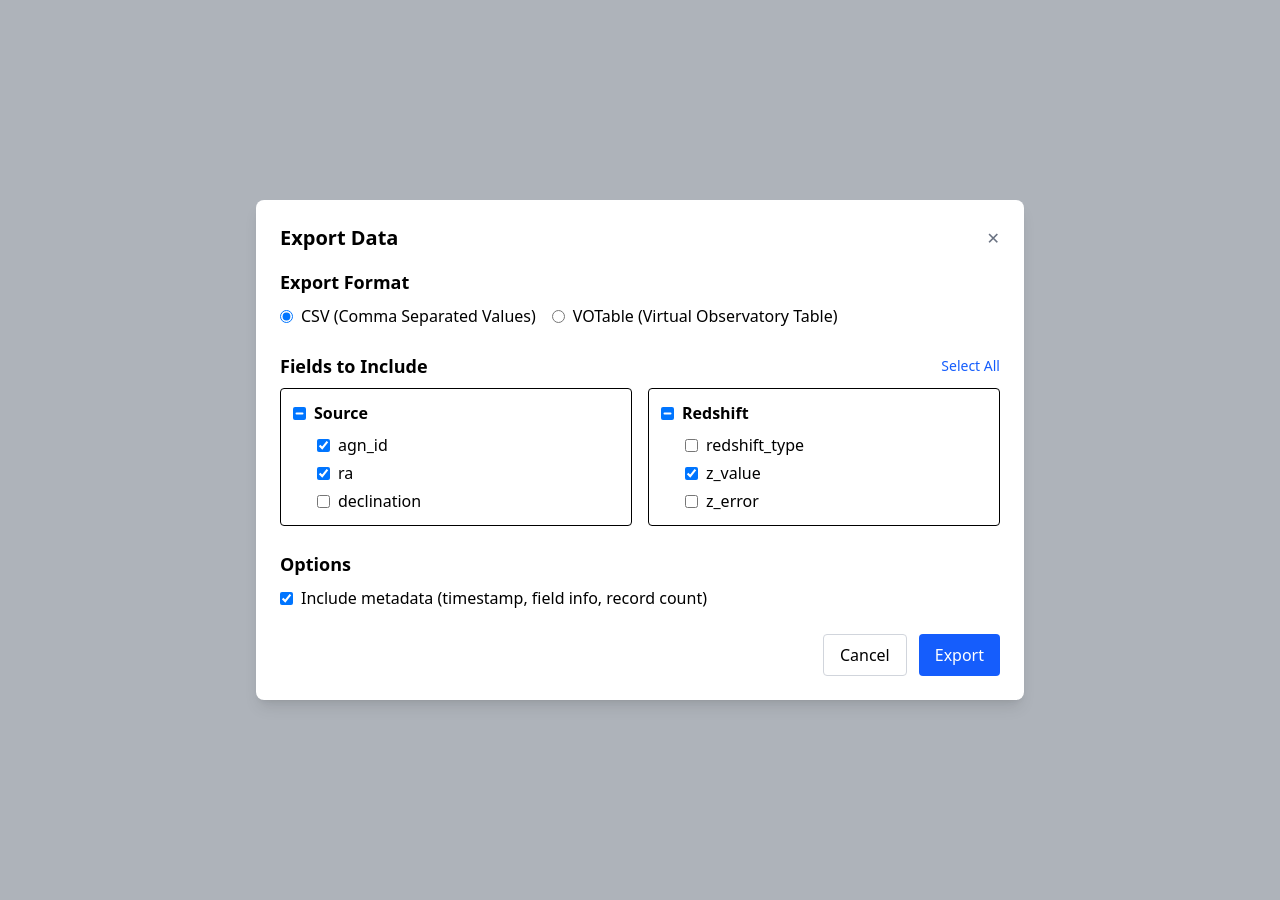
Test: ExportDialog Component › disable export button when no fields selected
// Deselect all fields
What coordinates should you click on to do the following:
click the button "Select All"
I would click on:
 (971, 366)
Its box is [941, 356, 1000, 376].
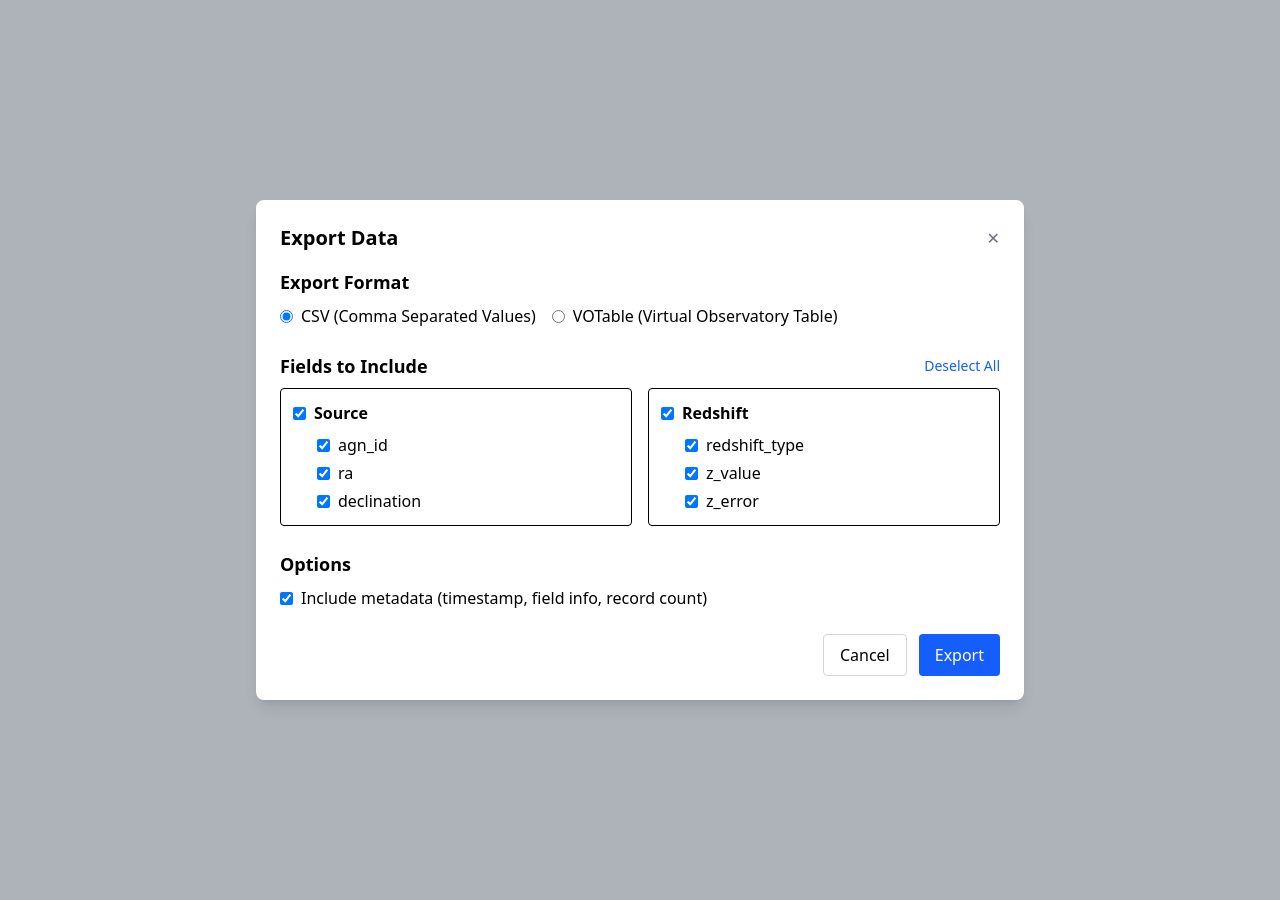
What coordinates should you click on to do the following:
click the button "Deselect All"
I would click on:
 (962, 366)
Its box is [924, 356, 1000, 376].
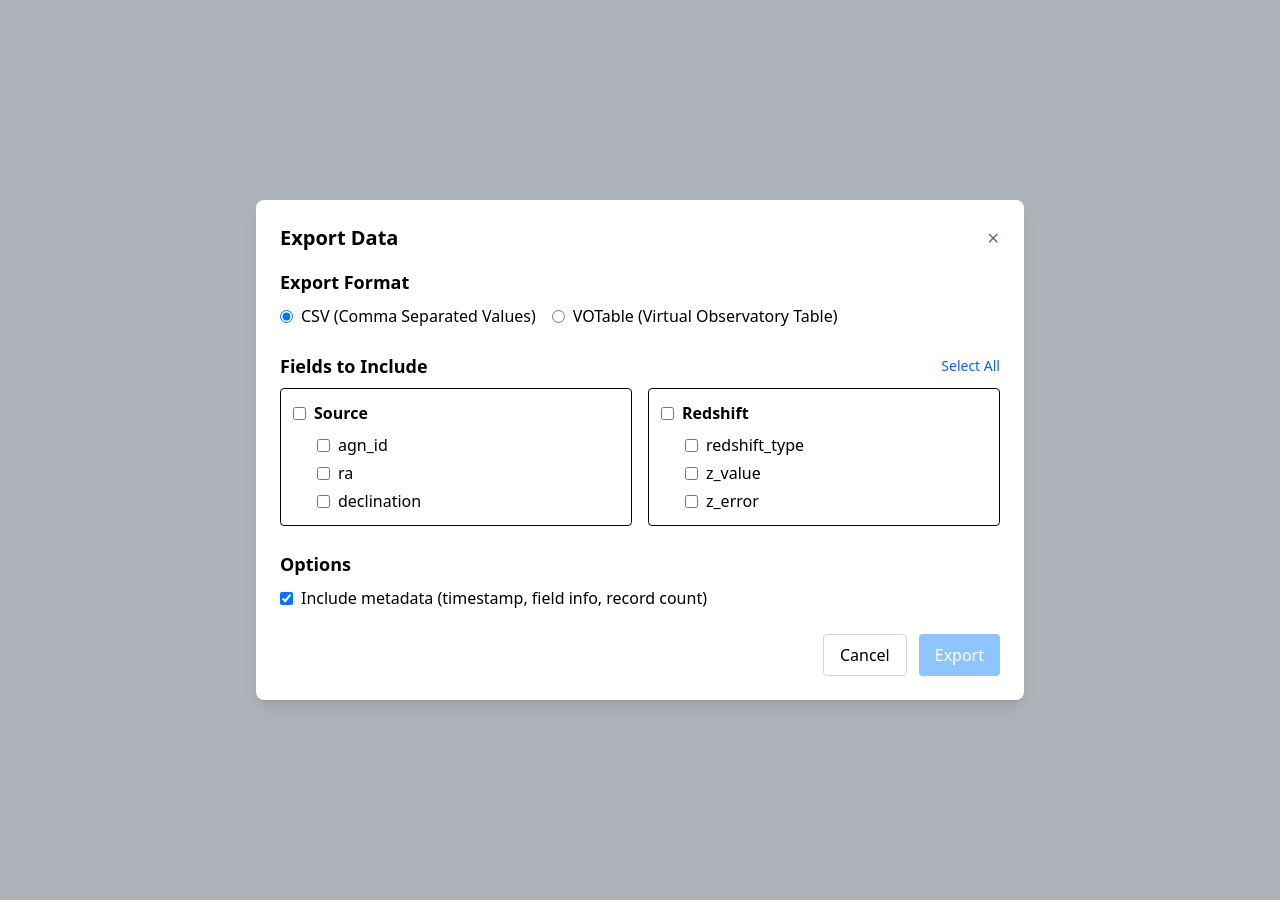
Expected: the button "Export" is disabled, [919, 634, 1000, 676]
